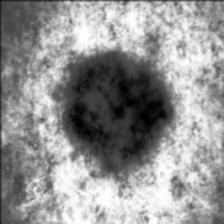Potentially Malignant Skin Tumors: (64, 52, 169, 170)
